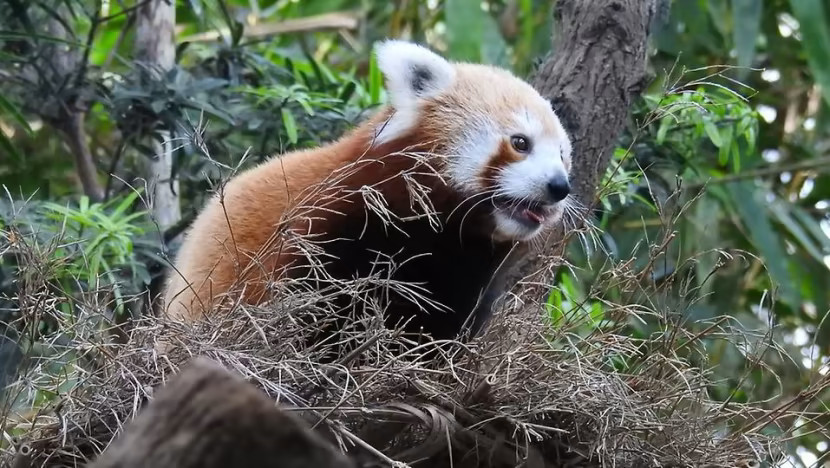Red panda: (370, 33, 577, 242)
